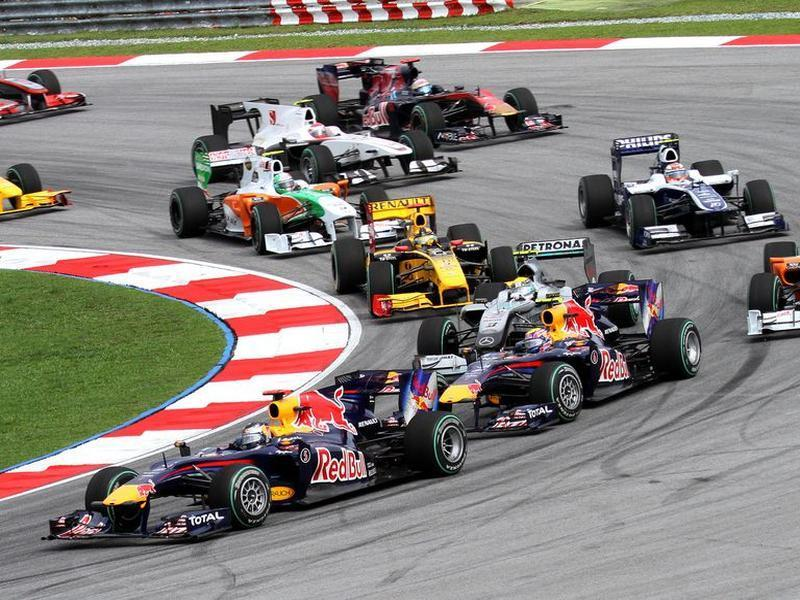f1: (84, 370, 498, 544), (433, 301, 739, 477), (310, 35, 558, 163), (191, 85, 441, 197), (575, 125, 794, 246), (159, 140, 351, 268), (341, 201, 527, 321), (415, 239, 612, 349), (744, 217, 800, 332)
